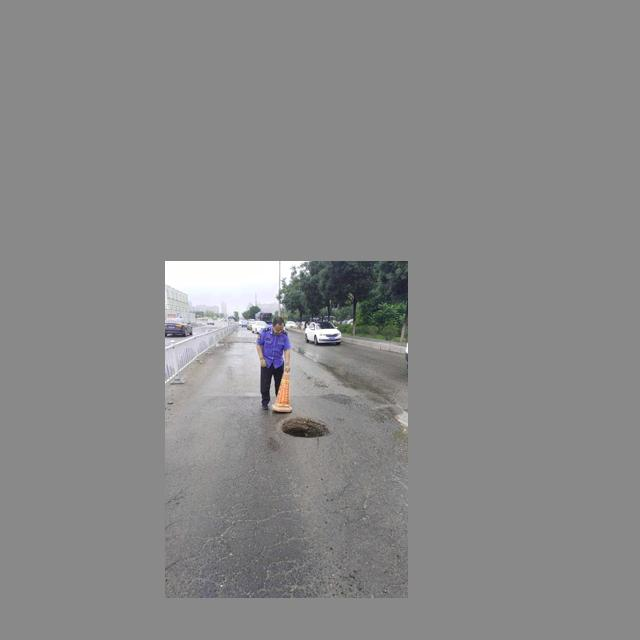lose: (273, 411, 340, 442)
